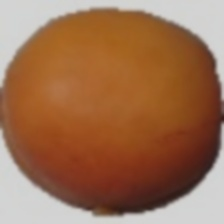apricot: (64, 12, 201, 176)
